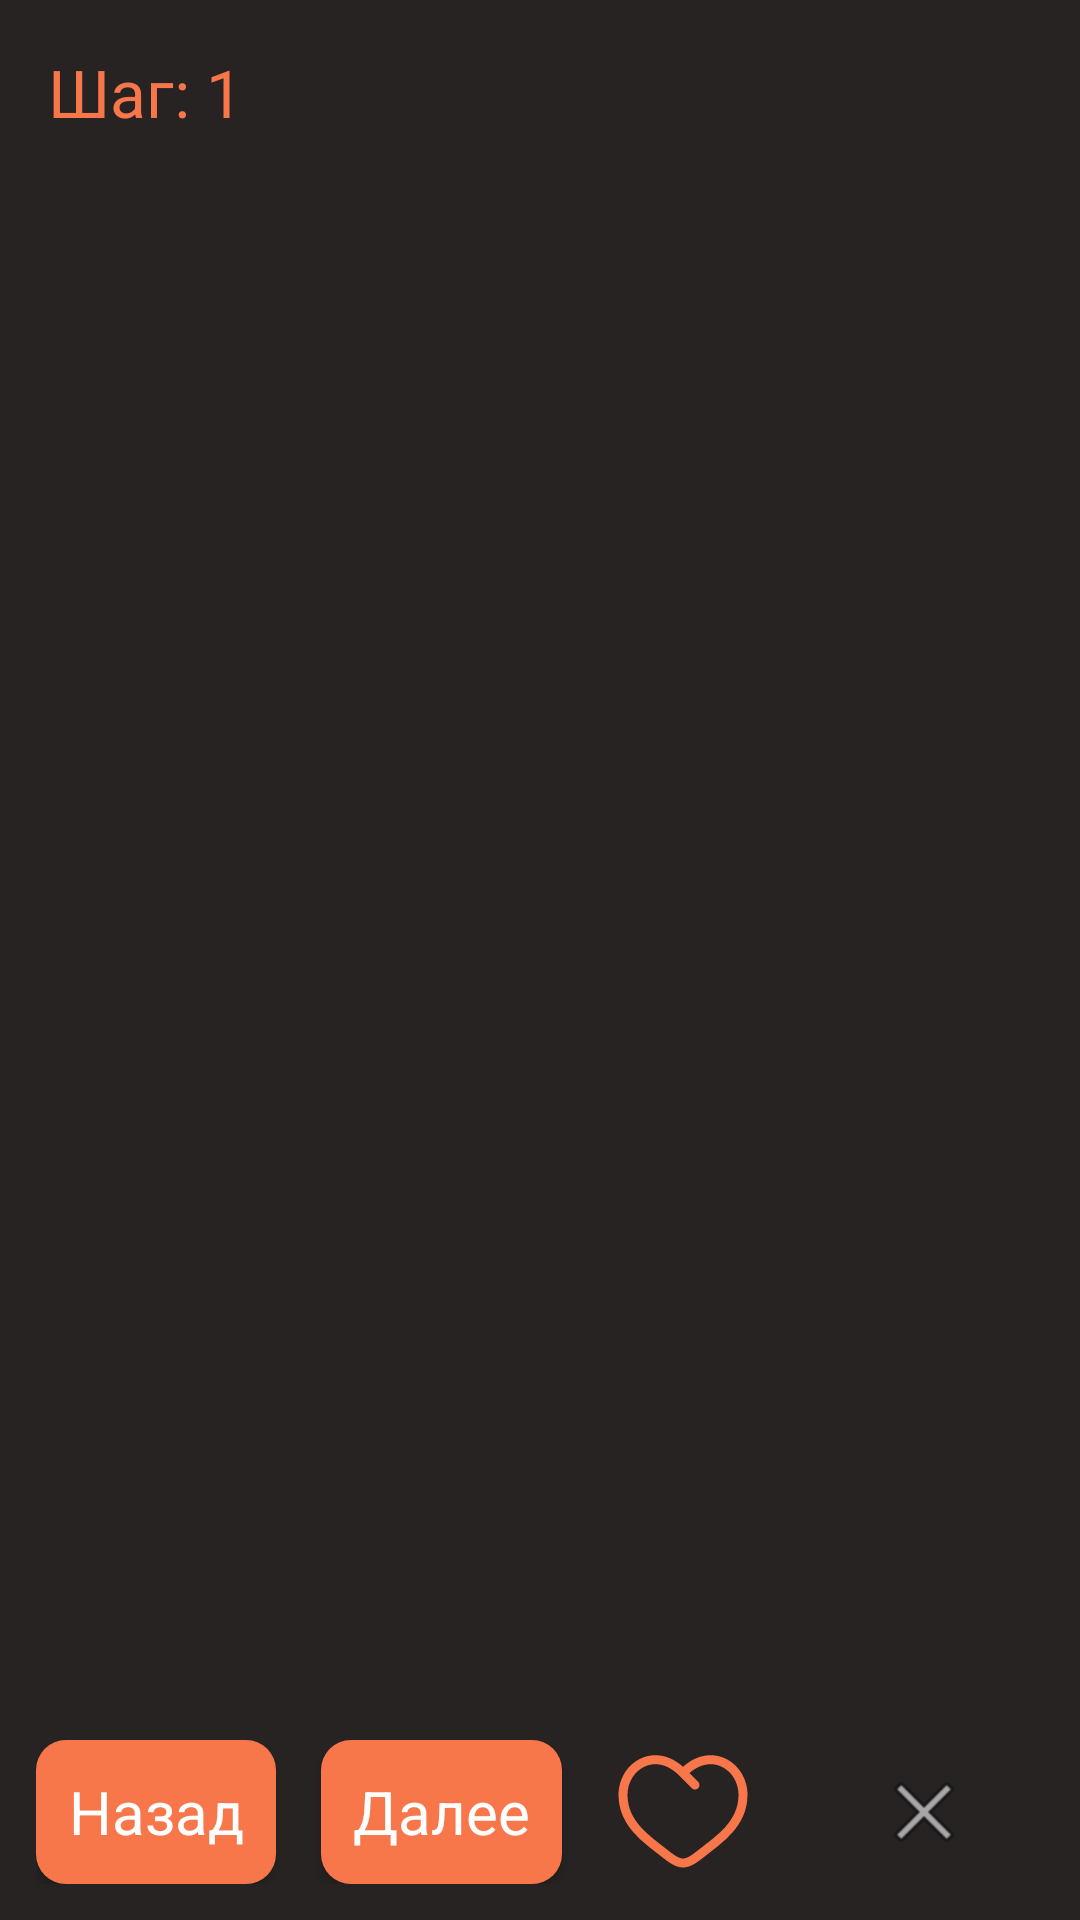

Icons on this 1080*1920 Android screen, each with its box as (x1, y1, x2, y2):
Close: (897, 1785, 951, 1839)
Favorite: (618, 1755, 748, 1868)
